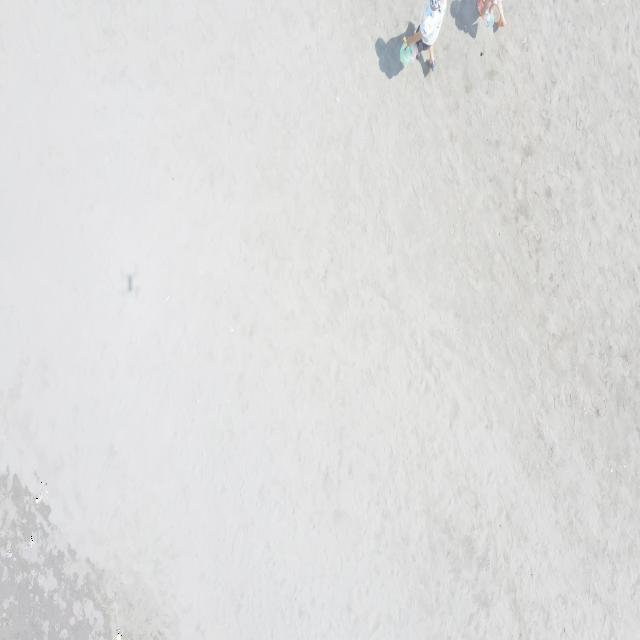glass: (35, 482, 48, 506), (24, 536, 36, 550), (116, 628, 122, 640), (6, 551, 12, 558)
